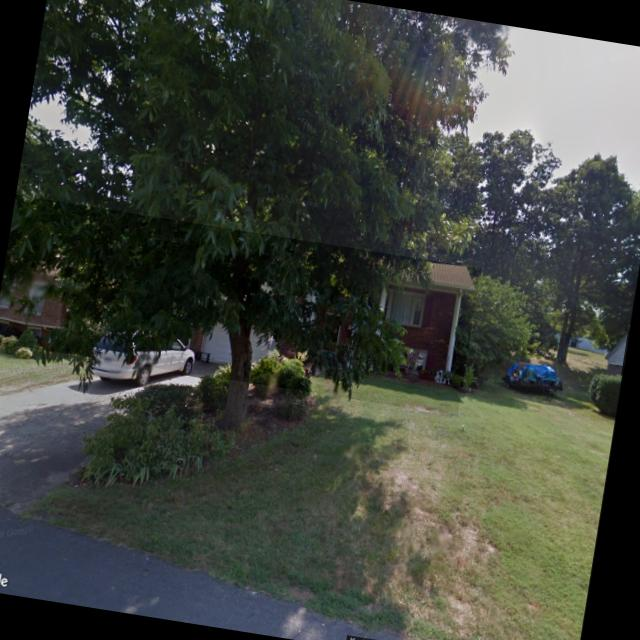House: (0, 195, 481, 416), (602, 329, 630, 376)
